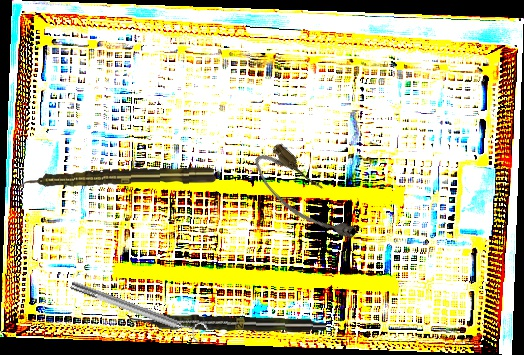Cannula: (246, 138, 365, 257)
Fixation Ring: (67, 273, 210, 346)
Handpiece: (16, 165, 218, 191), (128, 311, 327, 335)
